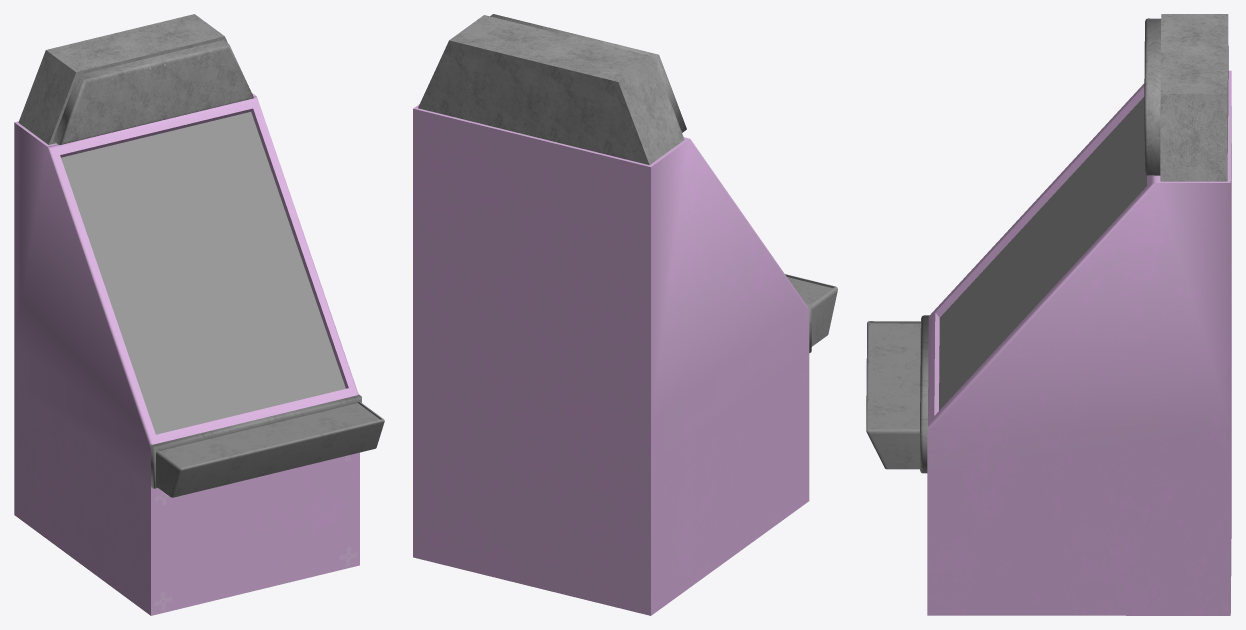
File: 오락기계.fbx
3 renders of one model, left to right at view 1: azimuth 30°, elevation 25°; view 2: azimuth 150°, elevation 25°; view 3: azimuth 270°, elevation 25°, orthographic. The views are drawn at different scales.
Parts seen in each view (by area): view 1: Box001, Screen, 상단스크린, 오락키패드판, 키패드판연결부분; view 2: Box001, 상단스크린, 오락키패드판; view 3: Box001, Screen, 상단스크린, 오락키패드판, 키패드판연결부분.
Boxes of the visible parts, box(x1,y1,x2,y2) form: Box001: box(14, 93, 359, 615); Screen: box(61, 112, 345, 434); 상단스크린: box(18, 14, 253, 145); 오락키패드판: box(156, 401, 384, 497); 키패드판연결부분: box(150, 394, 361, 488); Box001: box(413, 104, 809, 615); 상단스크린: box(418, 14, 686, 164); 오락키패드판: box(785, 274, 837, 346); Box001: box(927, 70, 1231, 615); Screen: box(939, 97, 1146, 410); 상단스크린: box(1144, 14, 1228, 181); 오락키패드판: box(866, 321, 920, 469); 키패드판연결부분: box(920, 315, 929, 473).
Size of the model in its own units: 66.37 by 139 by 90.98.
Materials: 4 (3 with a texture image).
